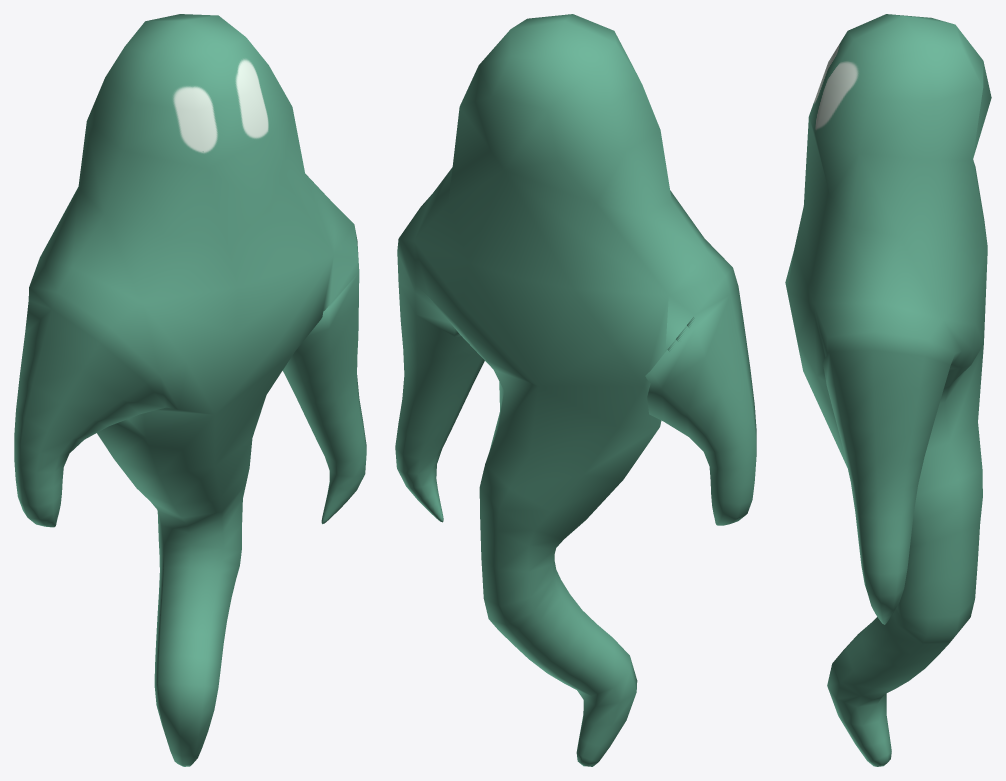
Rendered from Alma.fbx.
The picture shows the model from 3 angles, left to right: view 1: azimuth 30°, elevation 25°; view 2: azimuth 150°, elevation 25°; view 3: azimuth 270°, elevation 25°; orthographic projection. The views are drawn at different scales.
Parts seen in each view (by area): view 1: Plane.005; view 2: Plane.005; view 3: Plane.005.
Part boxes in pixels (box(x1,y1,x2,y2)): Plane.005: box(14, 14, 366, 766); Plane.005: box(395, 14, 756, 766); Plane.005: box(785, 14, 991, 766).
Bounding box in the file's own units: 71.2 × 144 × 35.68.
1 material, 1 textured.
